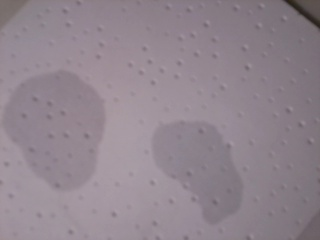Water_detected: (21, 81, 96, 179), (154, 129, 213, 194)
